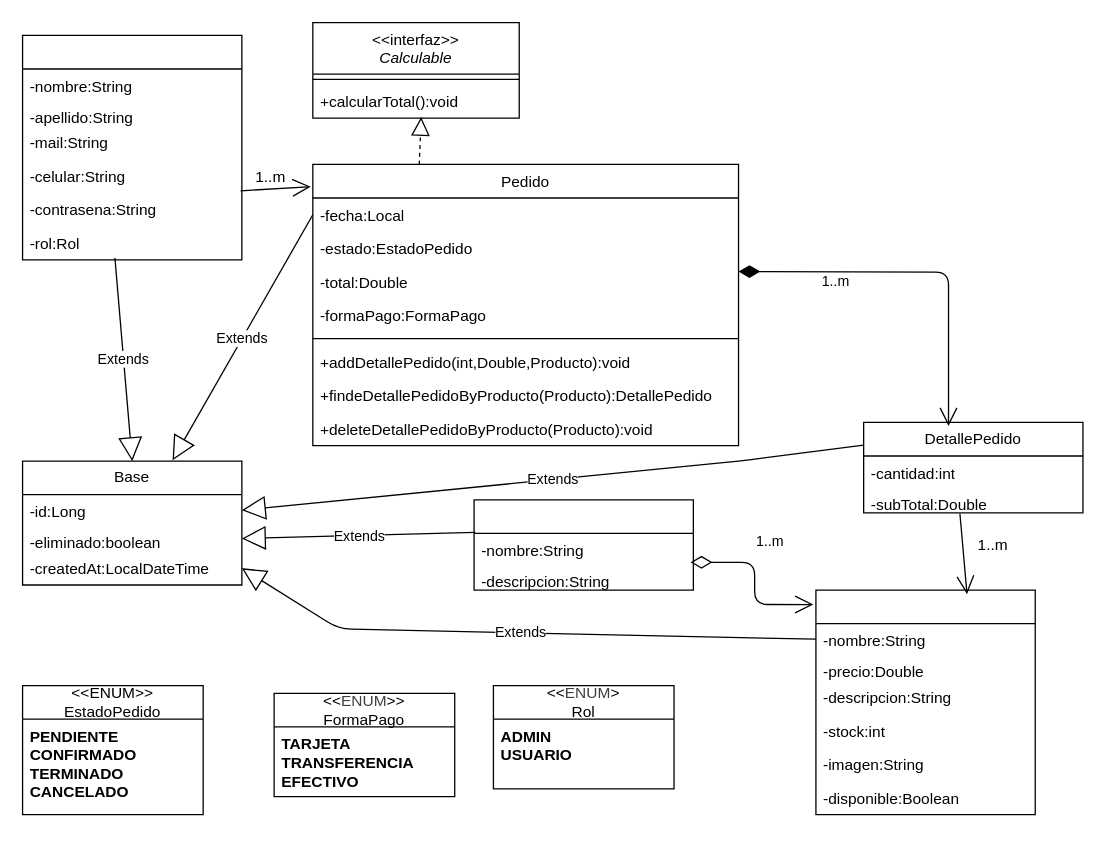
This 1106x841 diagram has some shape labels left out. Here are the shapes that lost their labels. From the top down, the box of each, then its label:
(21, 34, 242, 260): Usuario
(473, 499, 693, 590): Categoria
(815, 589, 1035, 815): Producto
